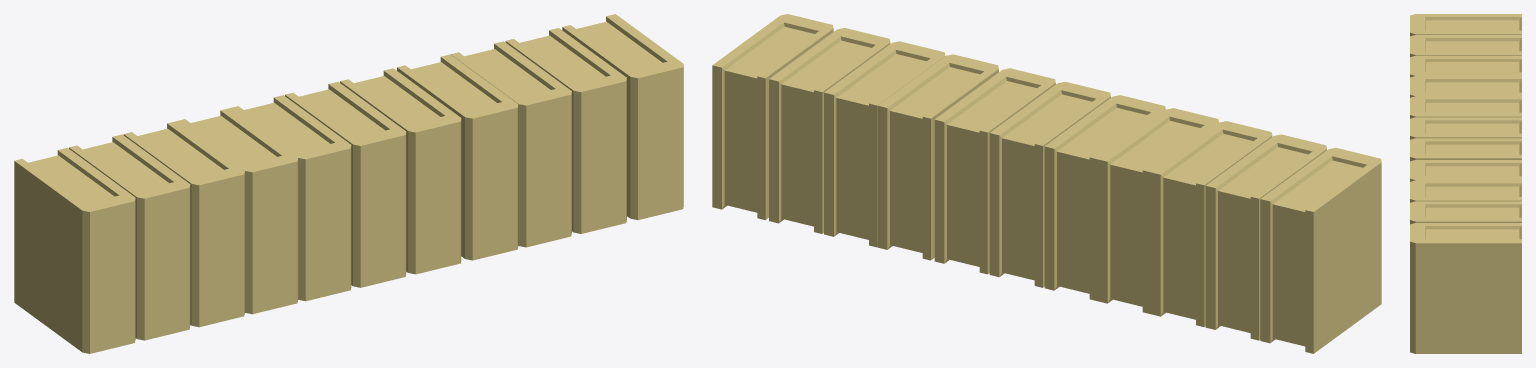
Rendered from bookstack3.fbx.
The picture shows the model from 3 angles, left to right: view 1: azimuth 30°, elevation 25°; view 2: azimuth 150°, elevation 25°; view 3: azimuth 270°, elevation 25°; orthographic projection. The views are drawn at different scales.
Visible parts, largest first — view 1: bookstack3; view 2: bookstack3; view 3: bookstack3.
Boxes of the visible parts, bbox=[...] form: bookstack3: bbox=[14, 14, 683, 353]; bookstack3: bbox=[712, 14, 1381, 353]; bookstack3: bbox=[1410, 14, 1521, 353].
Size of the model in its own units: 78.59 by 17.72 by 16.19.
